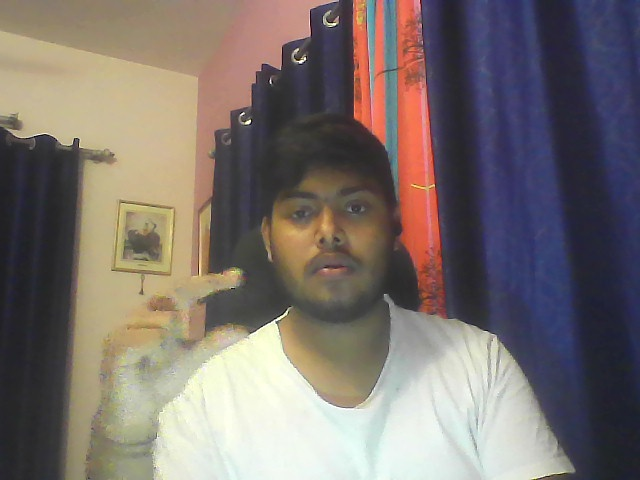No: (88, 263, 262, 426)
